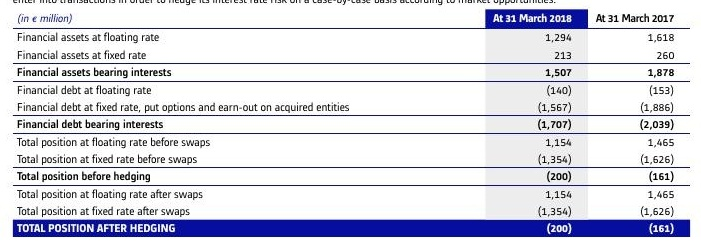table: (0, 0, 701, 250)
